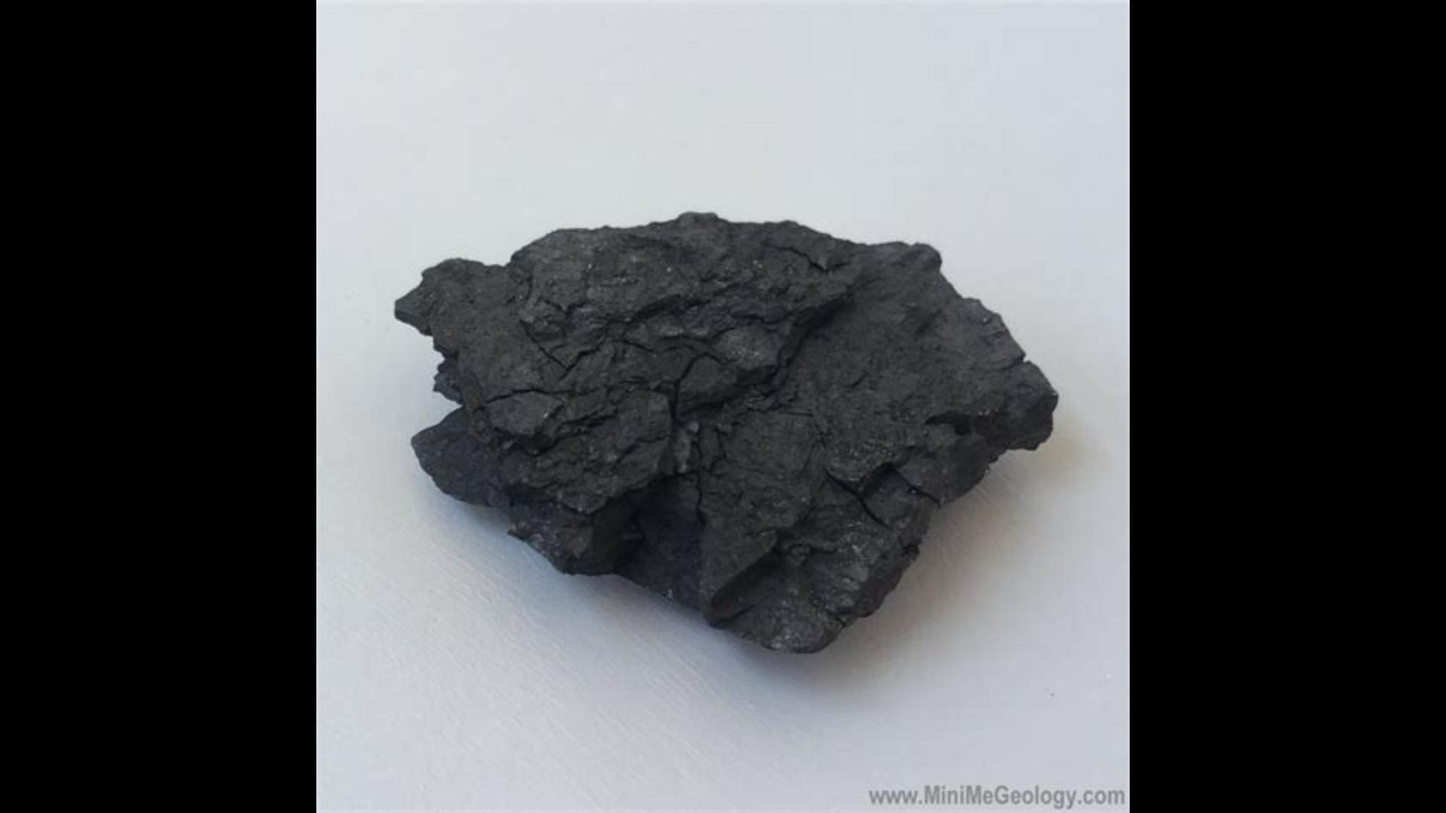rock: (395, 214, 1054, 650)
